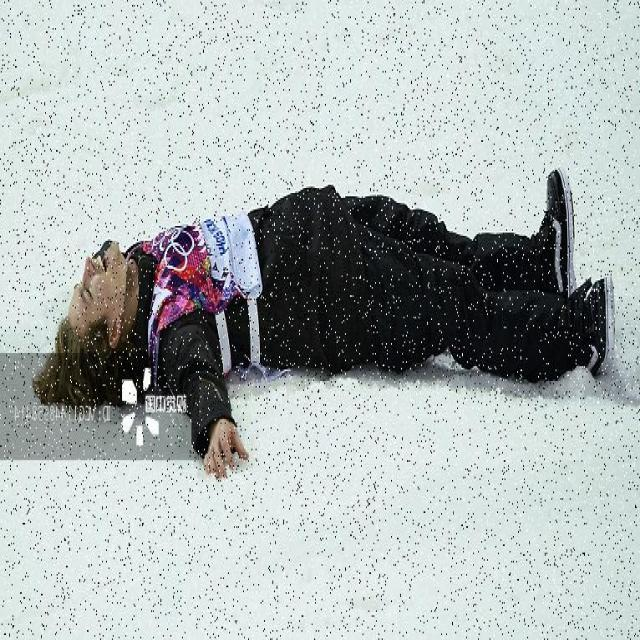fall: (41, 176, 622, 388)
